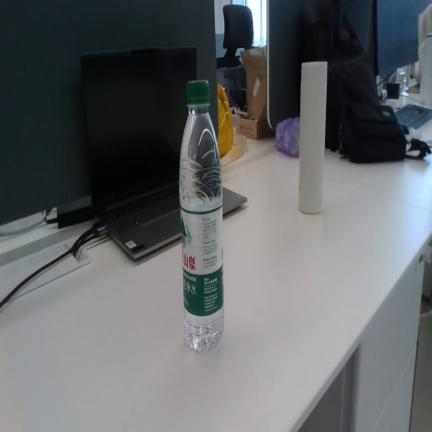bottle: (179, 80, 223, 352)
